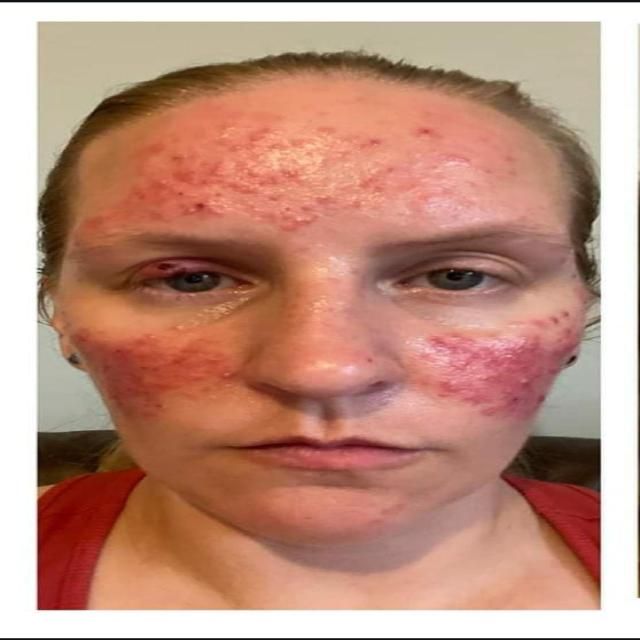Rosacea: (82, 334, 573, 426), (102, 134, 450, 220)
